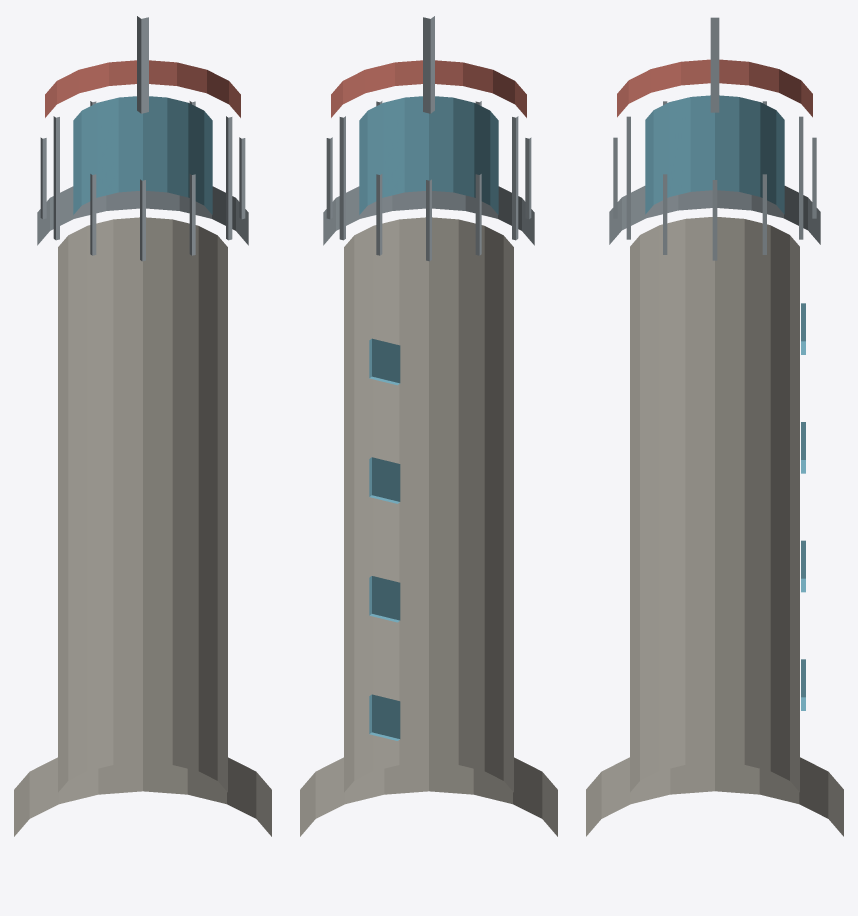
File: lighthouse_high.glb
The picture shows the model from 3 angles, left to right: view 1: azimuth 30°, elevation 25°; view 2: azimuth 150°, elevation 25°; view 3: azimuth 270°, elevation 25°; orthographic projection.
Visible parts, largest first — view 1: lighthouse high; view 2: lighthouse high; view 3: lighthouse high.
Boxes of the visible parts, bbox=[...] form: lighthouse high: bbox=[14, 16, 271, 836]; lighthouse high: bbox=[300, 16, 557, 836]; lighthouse high: bbox=[586, 17, 843, 836].
Size of the model in its own units: 10 by 35 by 9.85.
